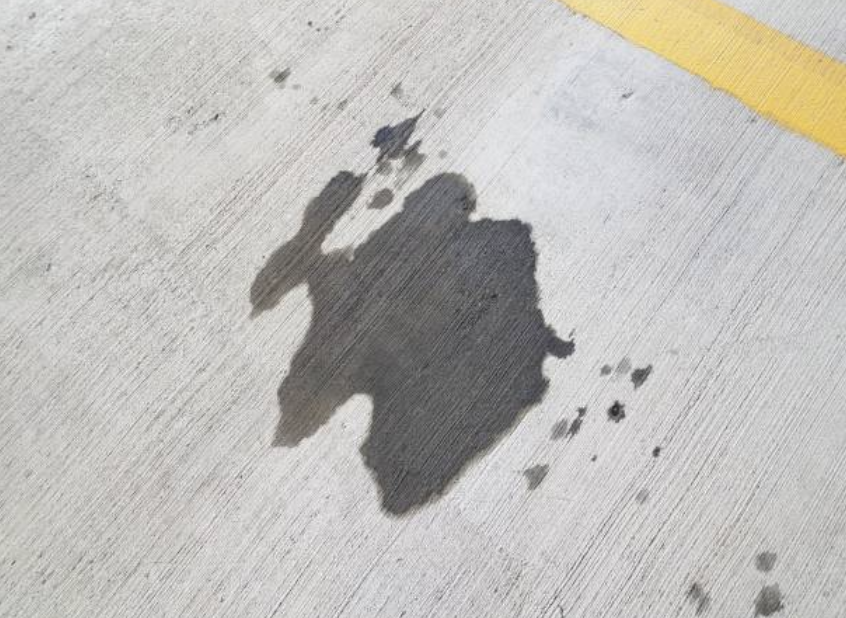oil: (124, 55, 294, 259)
